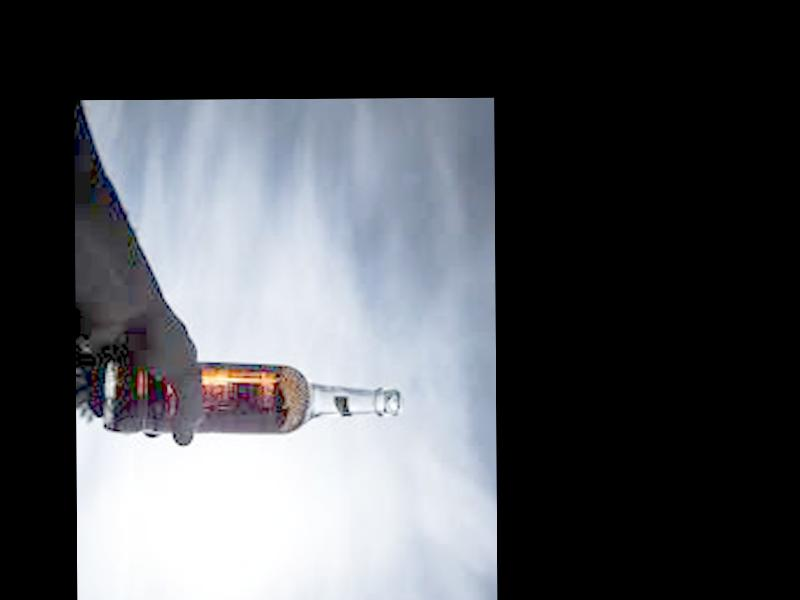Beer: (107, 360, 401, 431)
